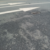others: (1, 1, 38, 15)
